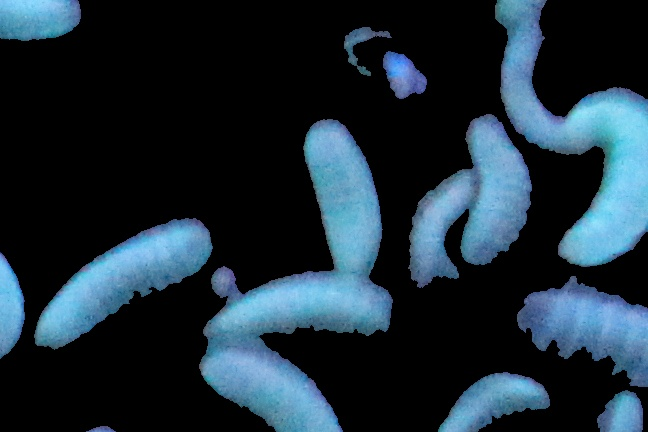larvae: (32, 215, 216, 352), (201, 277, 399, 350), (571, 87, 648, 272), (489, 29, 599, 156), (303, 115, 389, 277), (520, 286, 648, 391), (193, 350, 346, 432), (464, 117, 530, 273), (406, 166, 479, 301), (445, 371, 547, 432), (1, 215, 25, 374), (1, 1, 86, 44), (489, 1, 564, 37)
